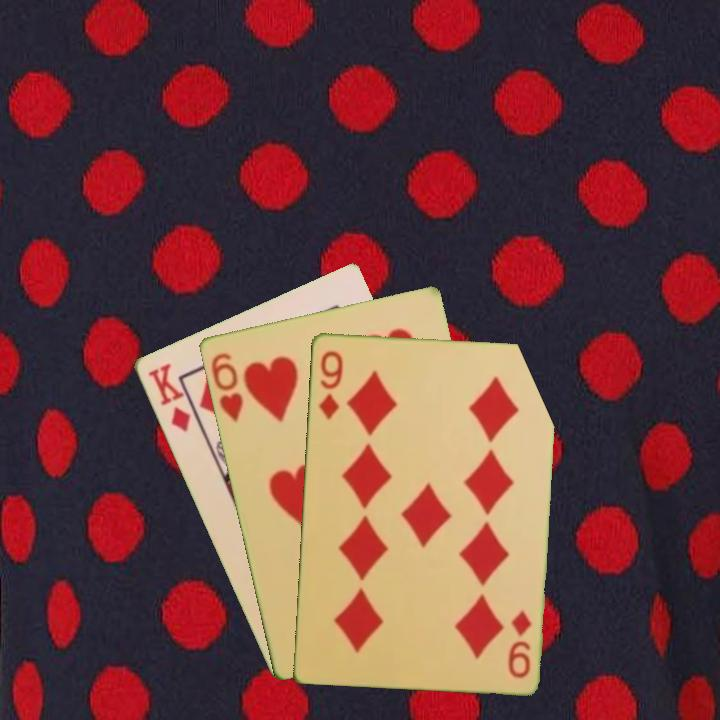6h: (207, 349, 246, 426)
9d: (315, 346, 345, 423), (504, 605, 534, 681)
Kd: (143, 359, 194, 435)
